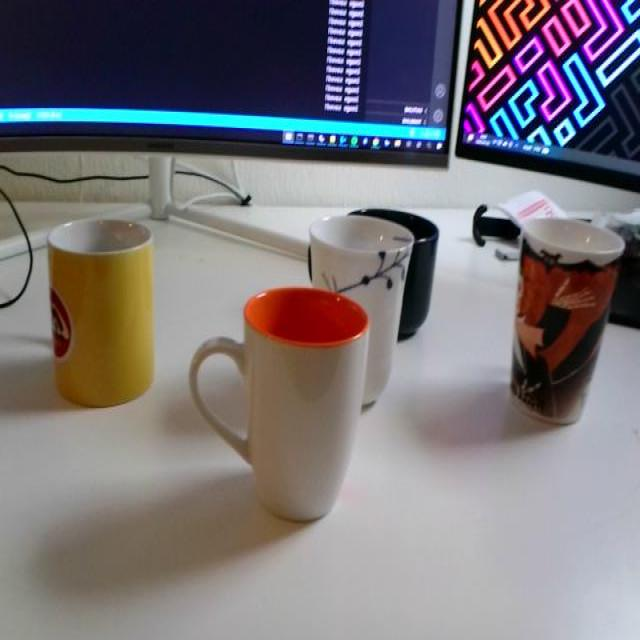cup: (181, 288, 381, 522), (502, 197, 626, 438), (38, 205, 168, 423), (302, 207, 423, 298), (394, 204, 444, 338)
